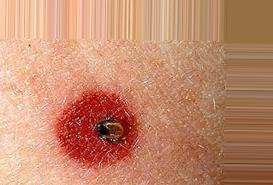Tick: (51, 86, 140, 169)
